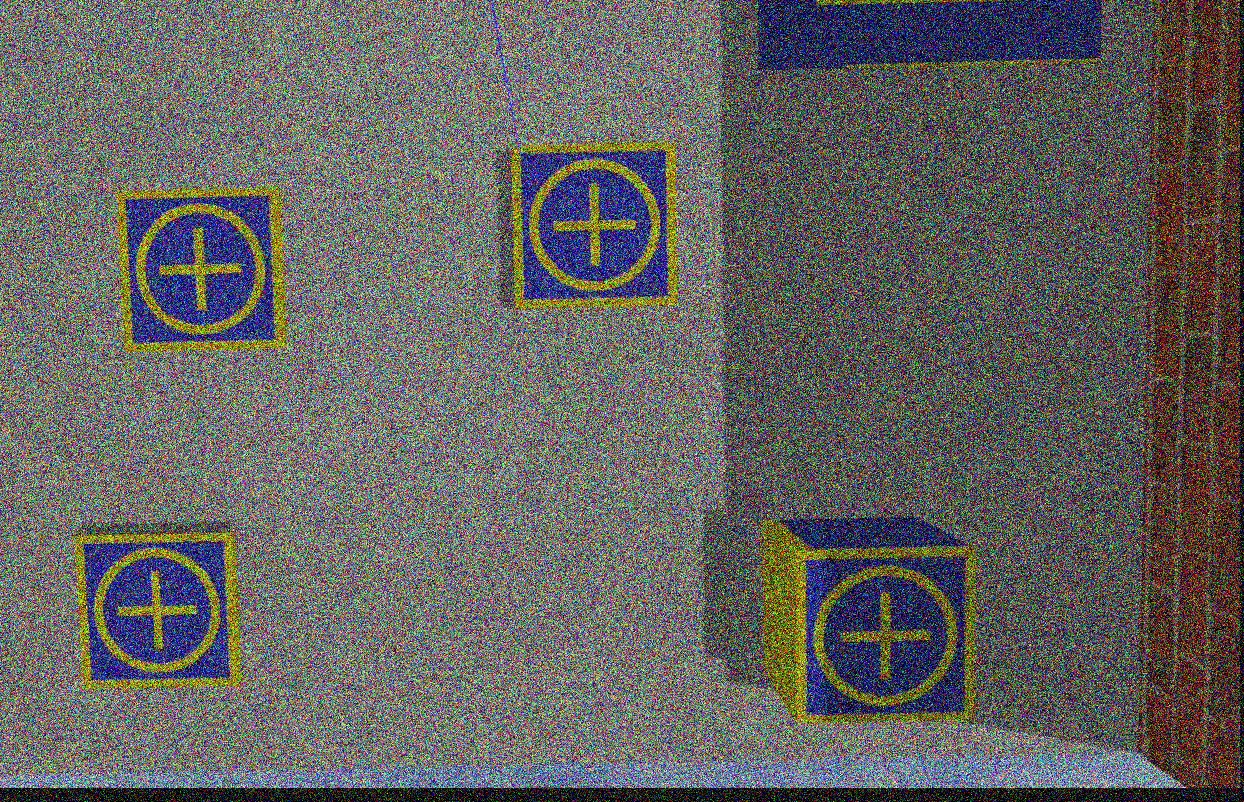small_base: (791, 545, 976, 728), (509, 140, 683, 308), (112, 189, 287, 351), (75, 531, 244, 693)
